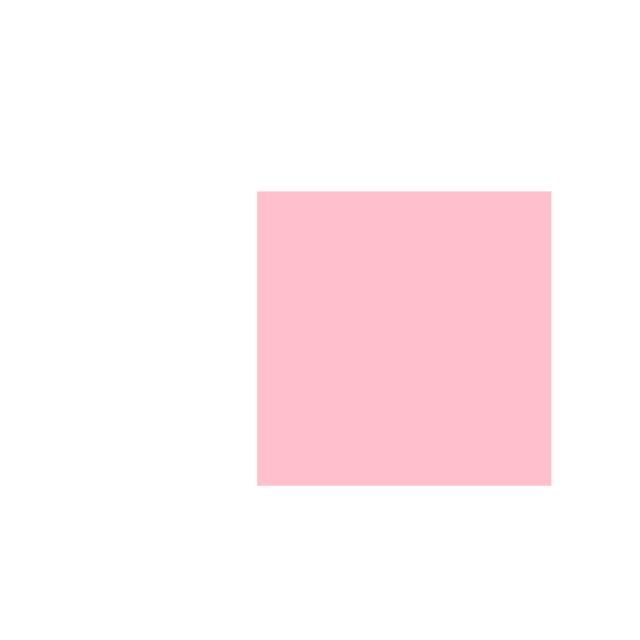square: (230, 146, 573, 517)
